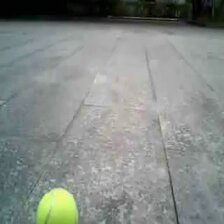tennis: (37, 188, 77, 224)
